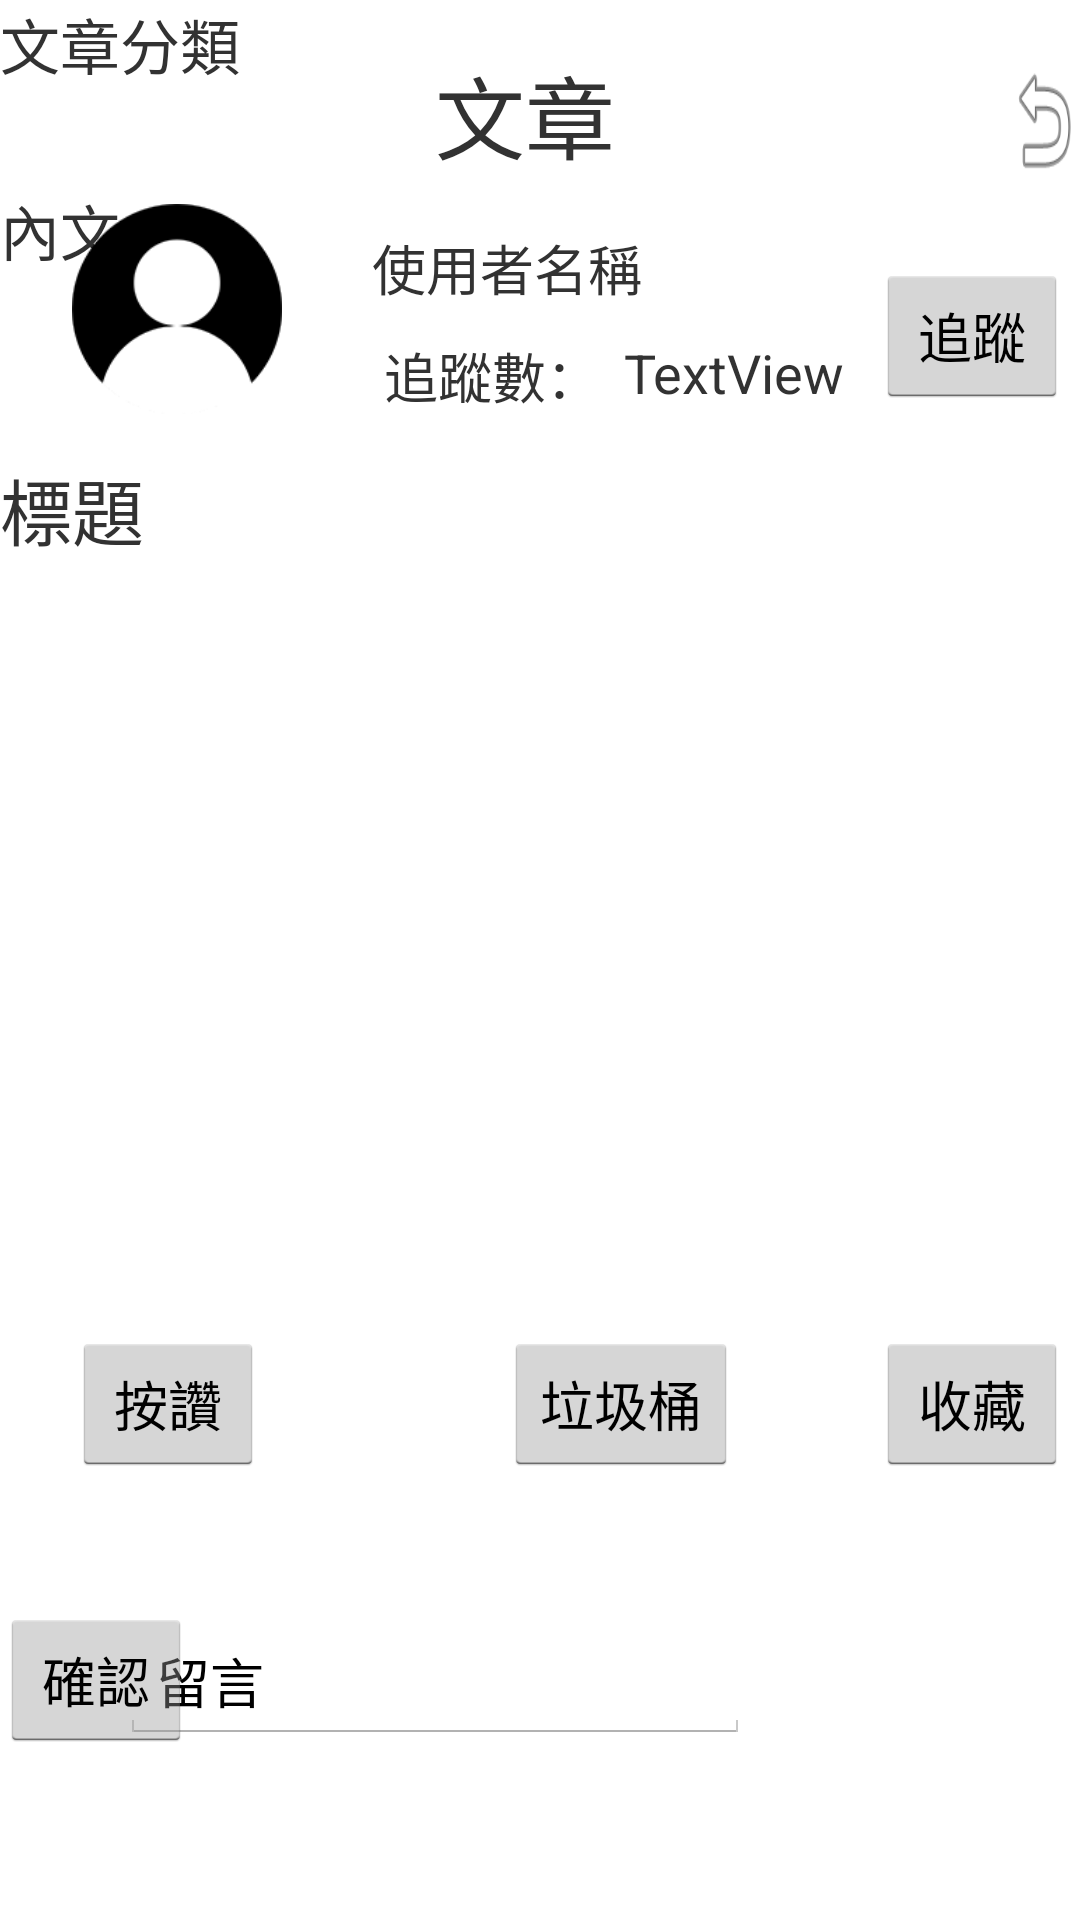

Named icons in this screenshot (1080w x 1920h) and their centers, (x,y):
revert: (1045,121)
user: (177,294)
